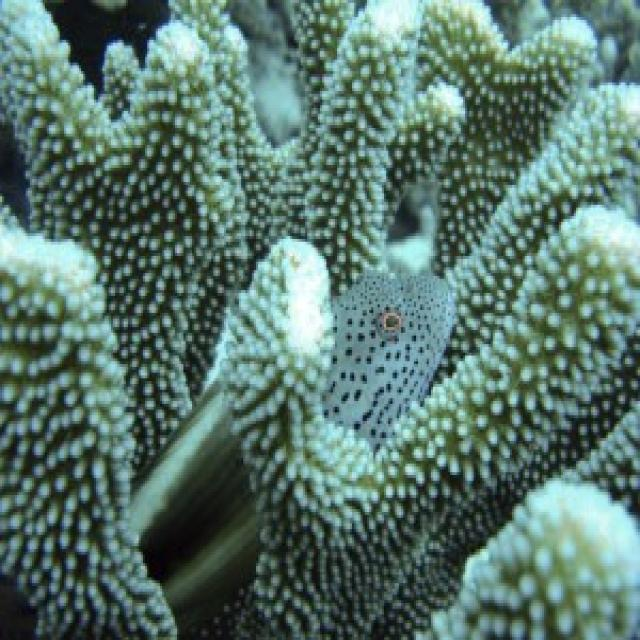Healthy: (216, 211, 639, 638), (1, 1, 246, 470), (1, 217, 174, 638), (443, 86, 639, 368), (421, 1, 596, 274), (426, 482, 639, 638), (306, 1, 419, 291), (174, 1, 293, 266), (391, 83, 464, 177)
